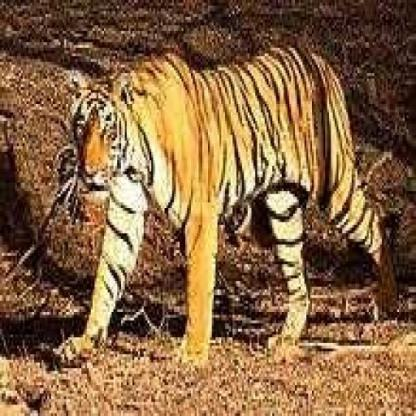Tiger: (32, 16, 415, 364)
